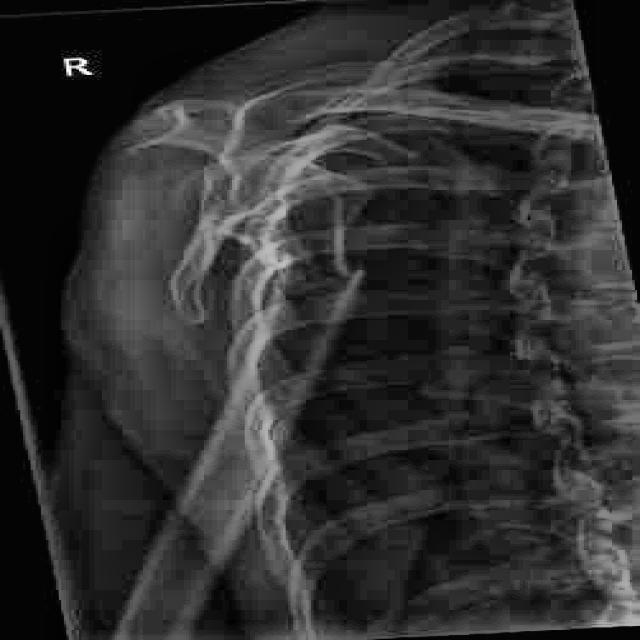shoulder fracture: (281, 238, 395, 310)
